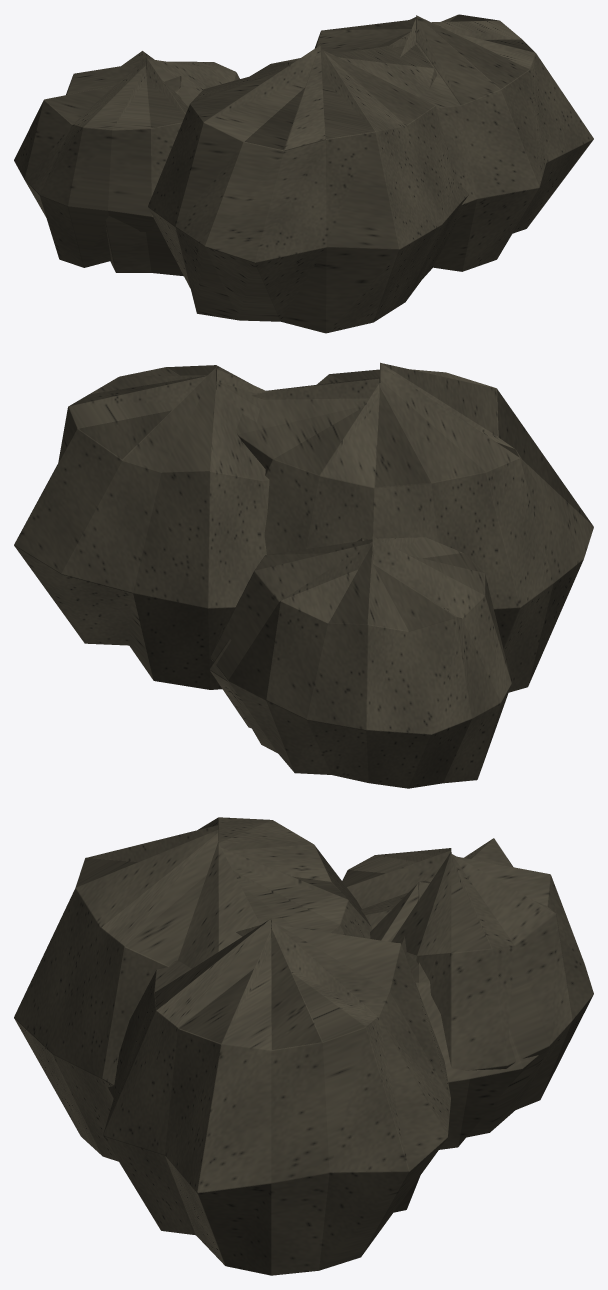
The model's file is PROP-A00CEBC2C86C_lod0.glb.
3 views of the same model, one above another, from view 1: azimuth 30°, elevation 25°; view 2: azimuth 150°, elevation 25°; view 3: azimuth 270°, elevation 25° (orthographic). The views are drawn at different scales.
Parts seen in each view (by area): view 1: rock.008; view 2: rock.008; view 3: rock.008.
Boxes of the visible parts, x1,y1,x2,y2 form: rock.008: (14,14,593,333); rock.008: (14,362,593,788); rock.008: (14,817,593,1275).
Size of the model in its own units: 2.04 by 1.03 by 1.73.
1 material, 1 textured.
